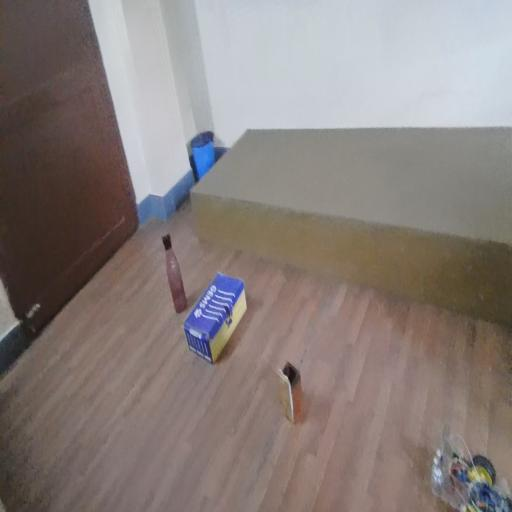Bottle: (156, 226, 198, 323)
